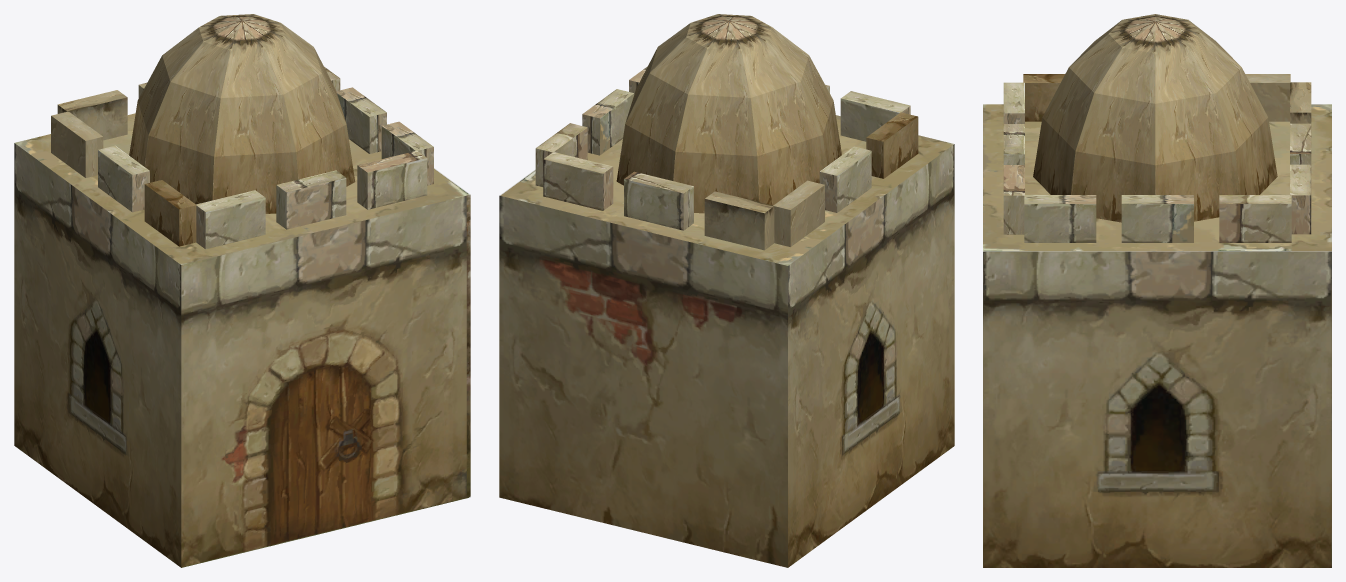
File: shamo_fangzi_4.fbx
The picture shows the model from 3 angles, left to right: view 1: azimuth 30°, elevation 25°; view 2: azimuth 150°, elevation 25°; view 3: azimuth 270°, elevation 25°; orthographic projection. The views are drawn at different scales.
Parts seen in each view (by area): view 1: polySurface130, polySurface143, polySurface131, polySurface132, polySurface136, polySurface135, polySurface134, polySurface133, polySurface139, polySurface142, polySurface141; view 2: polySurface130, polySurface143, polySurface137, polySurface139, polySurface138, polySurface134, polySurface135, polySurface133, polySurface136, polySurface142, polySurface140; view 3: polySurface130, polySurface143, polySurface140, polySurface141, polySurface142, polySurface134, polySurface132, polySurface137, polySurface135, polySurface139, polySurface136, polySurface138 (+1 smaller).
Boxes of the visible parts, box(x1,y1,x2,y2) form: polySurface130: box(14, 113, 470, 567); polySurface143: box(129, 14, 355, 213); polySurface131: box(276, 170, 346, 229); polySurface132: box(357, 150, 427, 209); polySurface136: box(196, 190, 265, 249); polySurface135: box(144, 180, 196, 246); polySurface134: box(51, 111, 103, 177); polySurface133: box(98, 145, 149, 212); polySurface139: box(57, 90, 127, 140); polySurface142: box(336, 87, 386, 153); polySurface141: box(381, 121, 433, 185); polySurface130: box(499, 115, 954, 567); polySurface143: box(616, 14, 841, 213); polySurface137: box(543, 152, 613, 210); polySurface139: box(704, 191, 774, 250); polySurface138: box(624, 171, 693, 230); polySurface134: box(773, 180, 824, 246); polySurface135: box(866, 112, 918, 178); polySurface133: box(819, 146, 871, 212); polySurface136: box(840, 91, 910, 141); polySurface142: box(582, 89, 634, 155); polySurface140: box(535, 123, 587, 186); polySurface130: box(983, 104, 1331, 567); polySurface143: box(1033, 14, 1277, 222); polySurface140: box(1219, 195, 1291, 242); polySurface141: box(1024, 195, 1096, 242); polySurface142: box(1121, 195, 1193, 242); polySurface134: box(1245, 74, 1290, 121); polySurface132: box(1003, 165, 1024, 234); polySurface137: box(1290, 164, 1311, 234); polySurface135: box(1023, 74, 1064, 121); polySurface139: box(1290, 82, 1311, 123); polySurface136: box(1003, 82, 1024, 123); polySurface138: box(1290, 123, 1311, 164).
Bounding box in the file's own units: 5.72 × 8.53 × 5.72.
